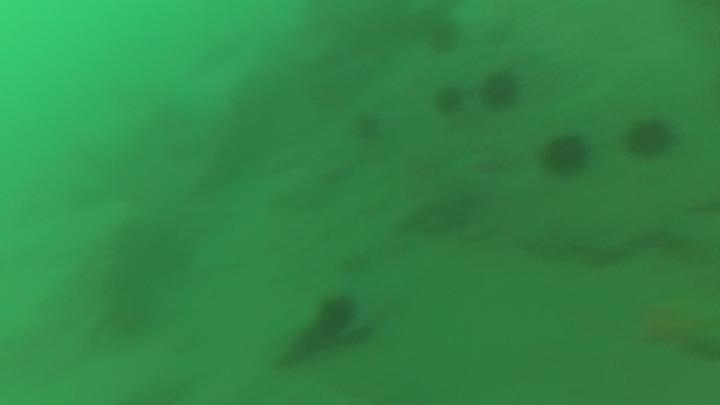echinus: (622, 113, 677, 161), (540, 131, 593, 179), (314, 293, 359, 338), (479, 68, 522, 113), (348, 108, 386, 145), (425, 19, 462, 56), (430, 82, 467, 118)
starfish: (632, 292, 719, 363)
